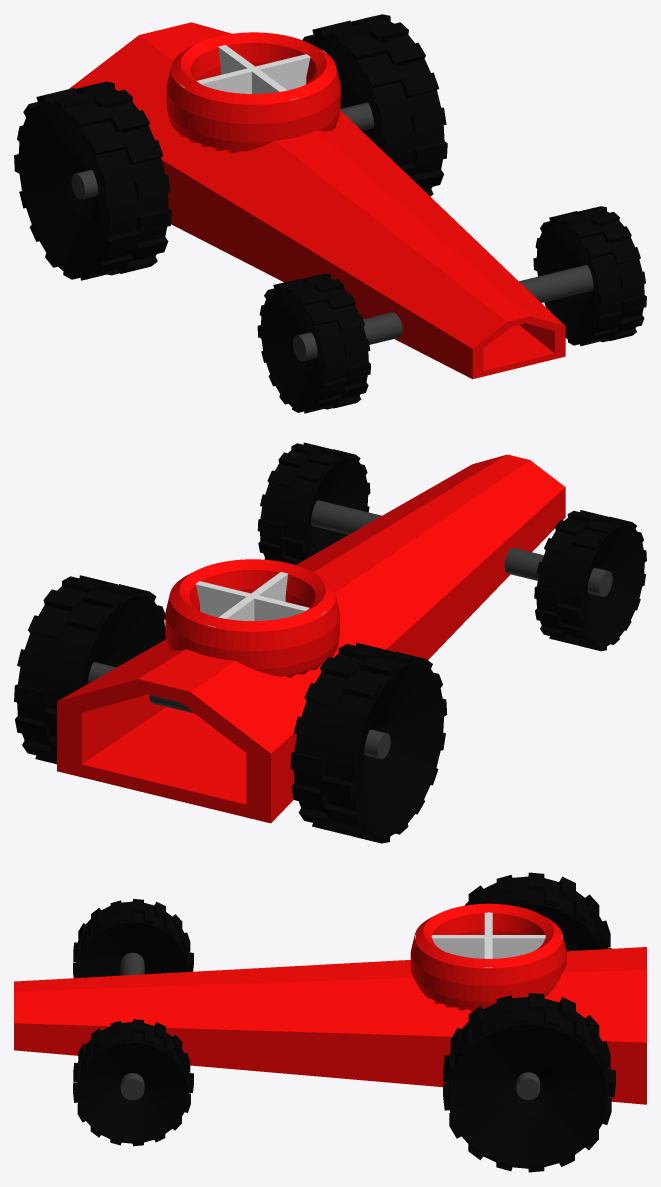
The model's file is Kazoo.fbx.
3 views of the same model, one above another, from view 1: azimuth 30°, elevation 25°; view 2: azimuth 150°, elevation 25°; view 3: azimuth 270°, elevation 25° (orthographic). The views are drawn at different scales.
Parts seen in each view (by area): view 1: KazooBase, TireBackRight, KazooTop, TireBackLeft, TireFrontLeft, TireFrontRight, FrontAxle, Filter2, BackAxle, Filter1; view 2: KazooBase, TireBackRight, TireBackLeft, KazooTop, TireFrontLeft, TireFrontRight, FrontAxle, Filter2, BackAxle, Filter1; view 3: KazooBase, TireBackLeft, TireFrontRight, KazooTop, TireFrontLeft, TireBackRight, Filter1, FrontAxle, BackAxle.
Part boxes in pixels (x1,y1,x2,y2): KazooBase: (69,22,565,379); TireBackRight: (14,81,171,280); KazooTop: (166,32,340,153); TireBackLeft: (302,14,447,196); TireFrontLeft: (257,273,370,413); TireFrontRight: (533,206,646,346); FrontAxle: (293,265,593,361); Filter2: (180,50,326,93); BackAxle: (71,102,374,199); Filter1: (218,45,298,100); KazooBase: (57,454,565,823); TireBackRight: (290,642,447,843); TireBackLeft: (14,575,165,764); KazooTop: (165,559,339,677); TireFrontLeft: (534,510,646,651); TireFrontRight: (257,442,370,564); FrontAxle: (311,500,612,596); Filter2: (179,577,325,620); BackAxle: (87,662,390,759); Filter1: (208,572,287,627); KazooBase: (14,947,646,1104); TireBackLeft: (443,993,615,1172); TireFrontRight: (73,1019,193,1146); KazooTop: (410,903,566,1011); TireFrontLeft: (73,899,193,978); TireBackRight: (465,872,611,951); Filter1: (415,935,562,958); FrontAxle: (120,952,144,1100); BackAxle: (516,1072,540,1100).
Size of the model in its own units: 440 by 234 by 800.
